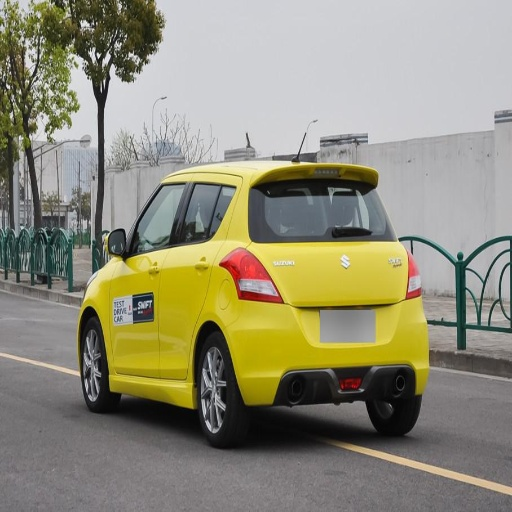back_bumper: (228, 298, 430, 402)
back_glass: (251, 179, 388, 240)
back_left_door: (159, 181, 216, 381)
trunk: (259, 244, 409, 343)
